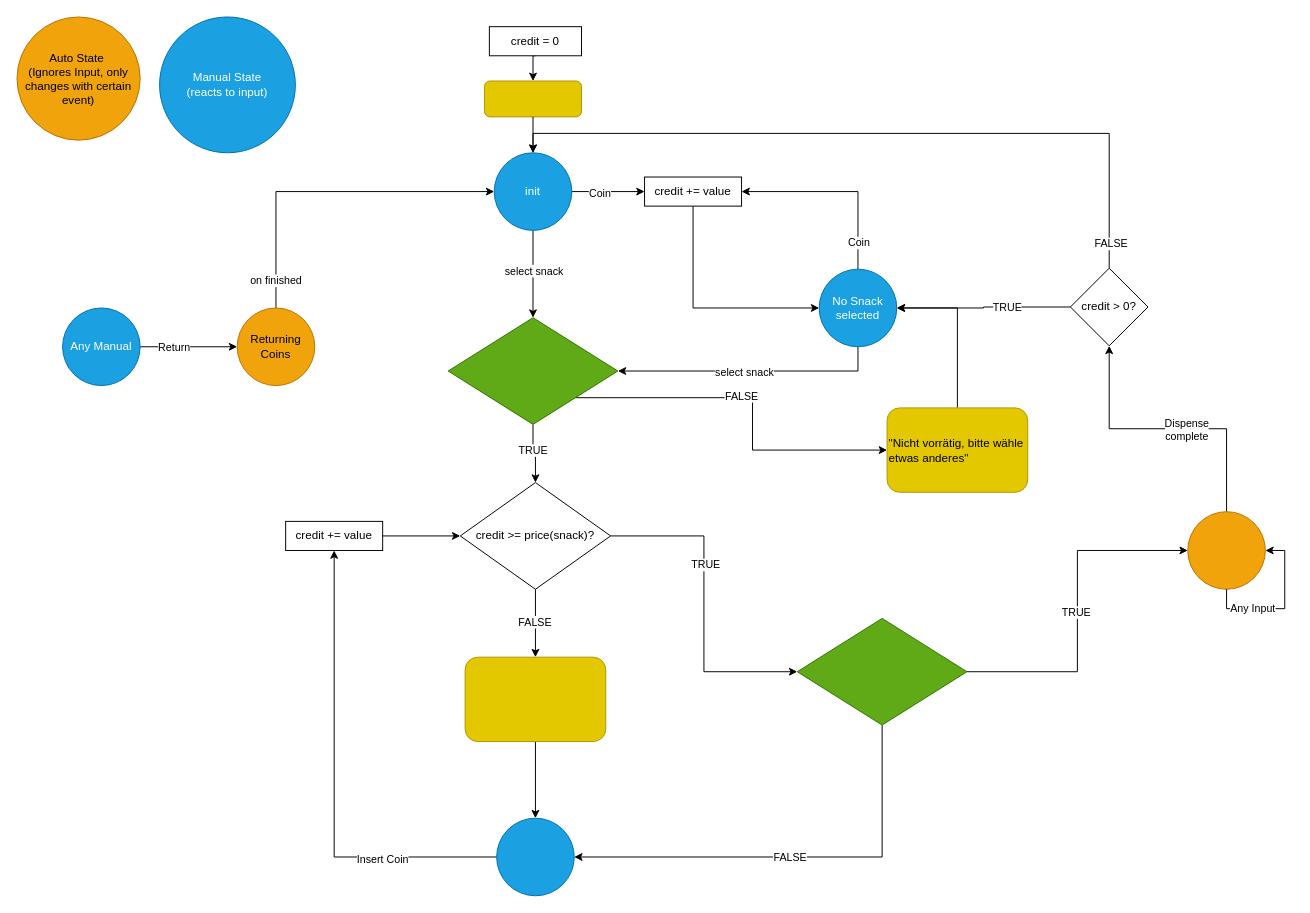
Some shapes in this 1310 by 913 pixel diagram are drawn without their labels. Here are the shapes that lost their labels. From the top down, the centre of each, then its label:
pixel 533 98: "Welcome"
pixel 532 370: INV-State: is snack avilable?
pixel 1226 550: Dispensing
pixel 881 671: INV-State: Is Return possible?
pixel 535 699: "Auswahl: $product zu zahlen: $price(snack) Guthaben: $credit"
pixel 535 856: Wait for Coins
